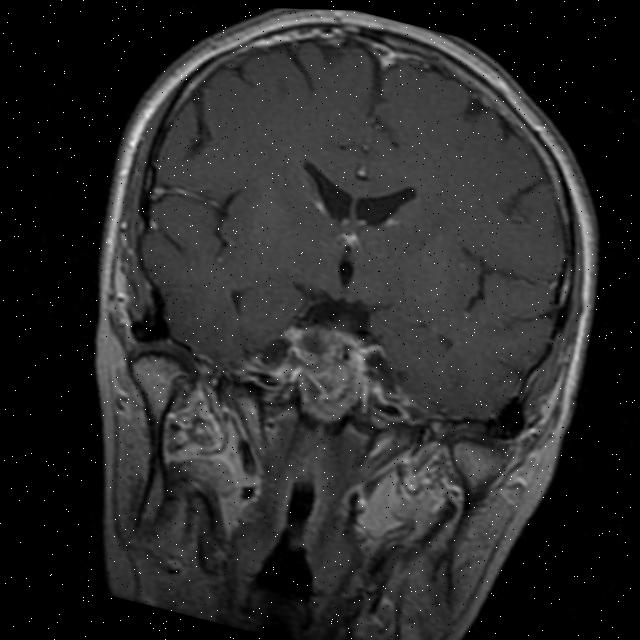Pituitary: (271, 318, 378, 429)
